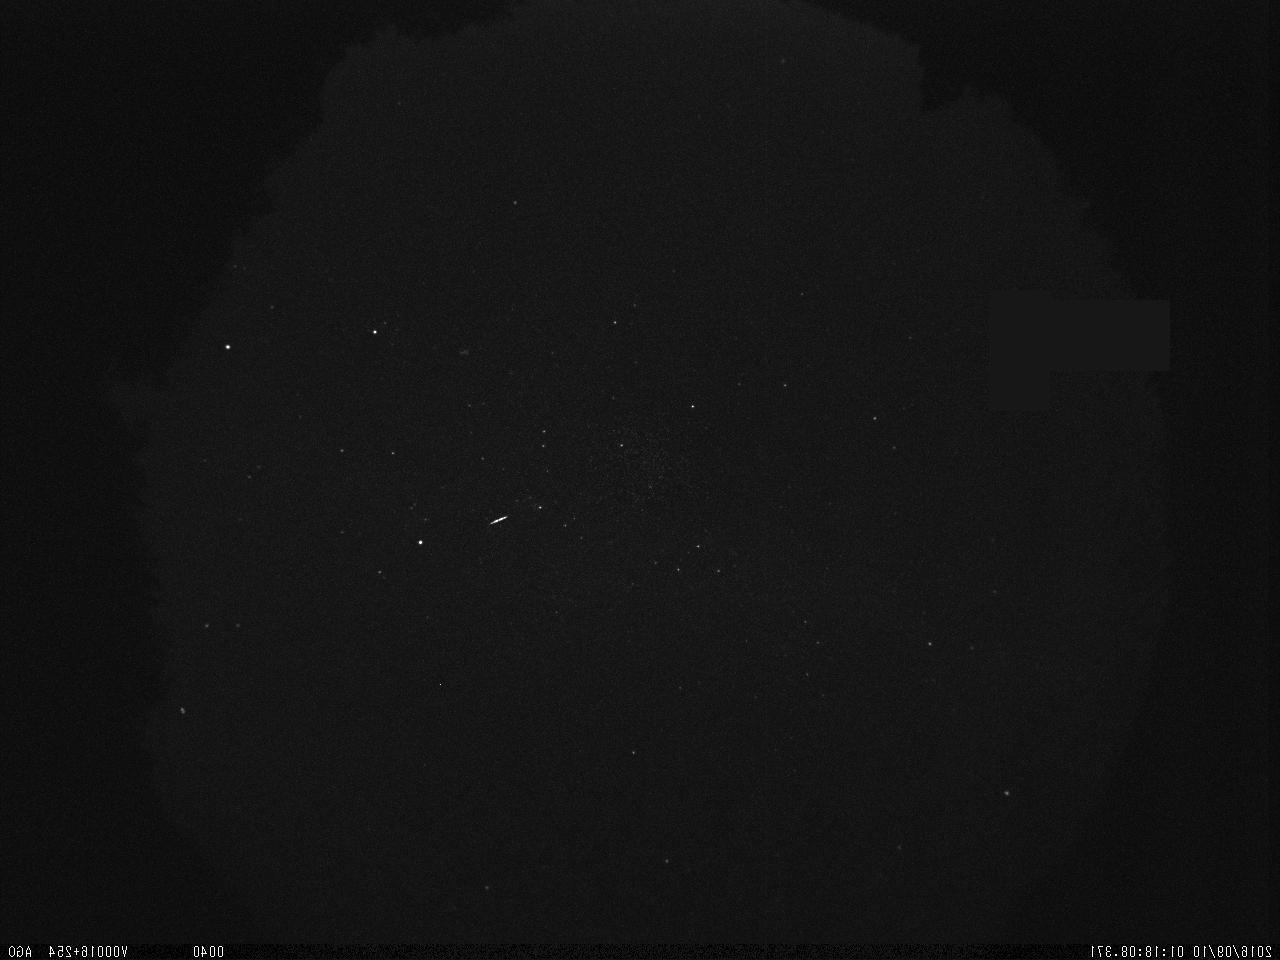meteor: (482, 509, 514, 533)
